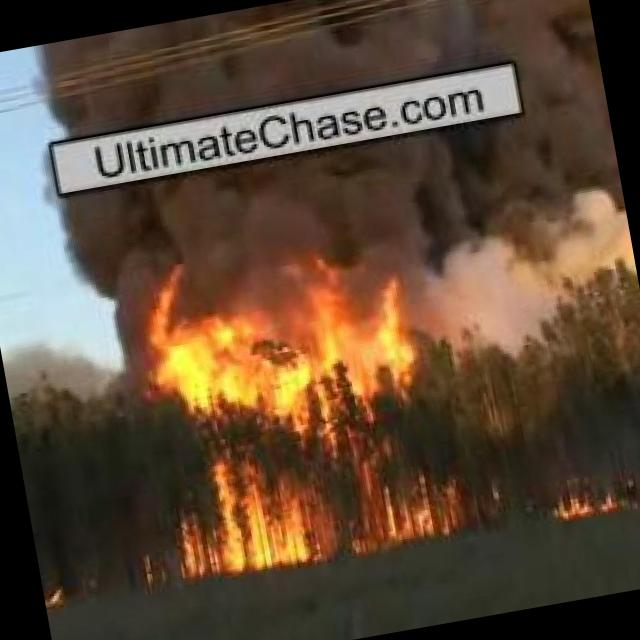Fire: (134, 245, 465, 582), (555, 480, 630, 521)
Smoke: (54, 100, 622, 286), (30, 0, 596, 140), (417, 186, 640, 366)
